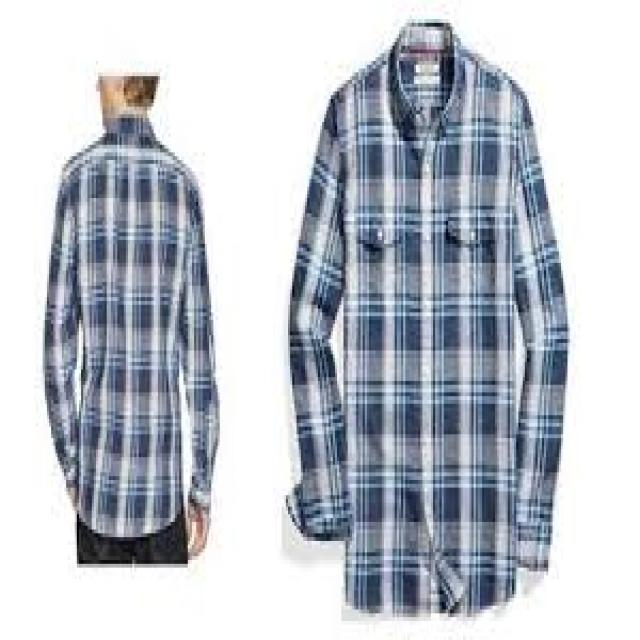plaid: (282, 24, 575, 617), (41, 118, 223, 529)
